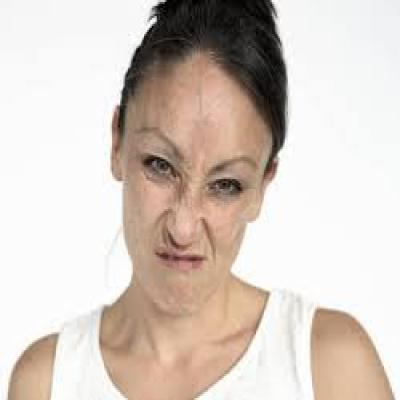angry: (102, 45, 269, 309)
